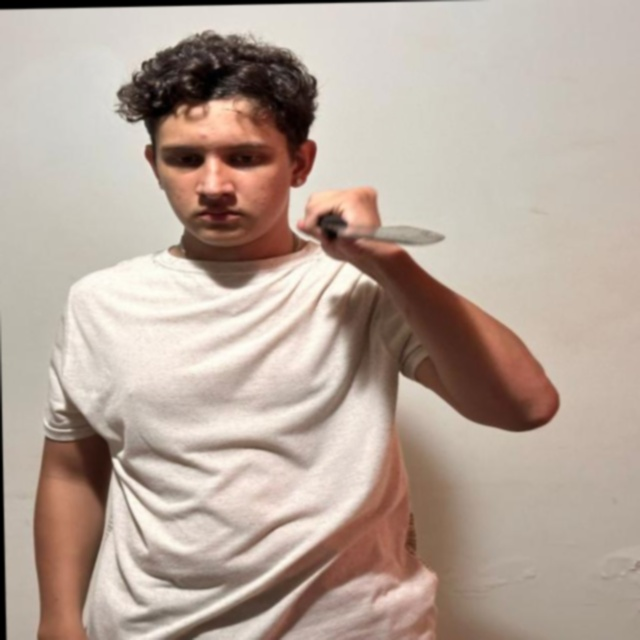Sharp-Object: (333, 223, 443, 247)
